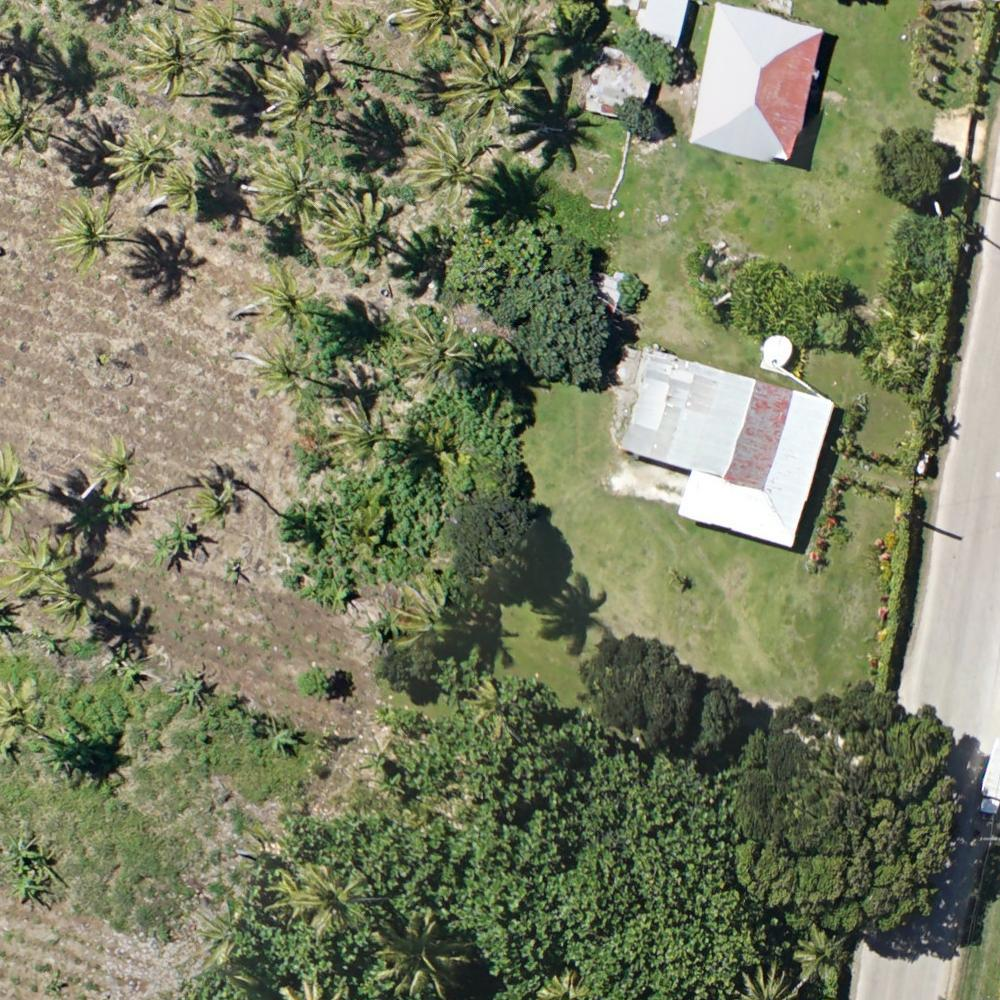Palm: (445, 36, 537, 127), (375, 912, 470, 997), (259, 54, 337, 141), (313, 185, 391, 265), (245, 151, 325, 227), (284, 861, 372, 929), (136, 21, 213, 96), (413, 126, 484, 202), (392, 576, 463, 649), (50, 197, 121, 269), (325, 397, 397, 468), (4, 526, 75, 595), (397, 317, 469, 385), (252, 264, 319, 332), (109, 126, 178, 191), (251, 338, 312, 404), (191, 2, 251, 60), (88, 430, 143, 493), (188, 469, 242, 524), (47, 584, 95, 635), (159, 163, 205, 216)
